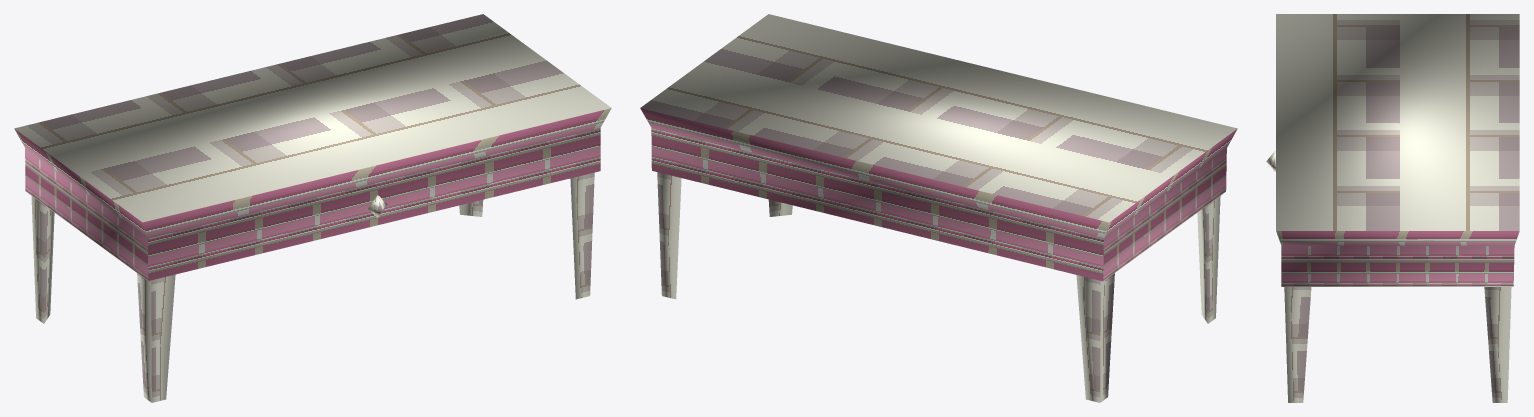
File: 3077IMRL05_05.gltf
The picture shows the model from 3 angles, left to right: view 1: azimuth 30°, elevation 25°; view 2: azimuth 150°, elevation 25°; view 3: azimuth 270°, elevation 25°; orthographic projection. The views are drawn at different scales.
Parts seen in each view (by area): view 1: 3077IMRL05_05; view 2: 3077IMRL05_05; view 3: 3077IMRL05_05.
Boxes of the visible parts, left/top/right/bottom form: 3077IMRL05_05: left=14, top=14, right=611, bottom=402; 3077IMRL05_05: left=640, top=14, right=1237, bottom=402; 3077IMRL05_05: left=1266, top=14, right=1519, bottom=402.
Size of the model in its own units: 1.95 by 0.7502 by 0.9626.
Materials: 2 (2 with a texture image).
